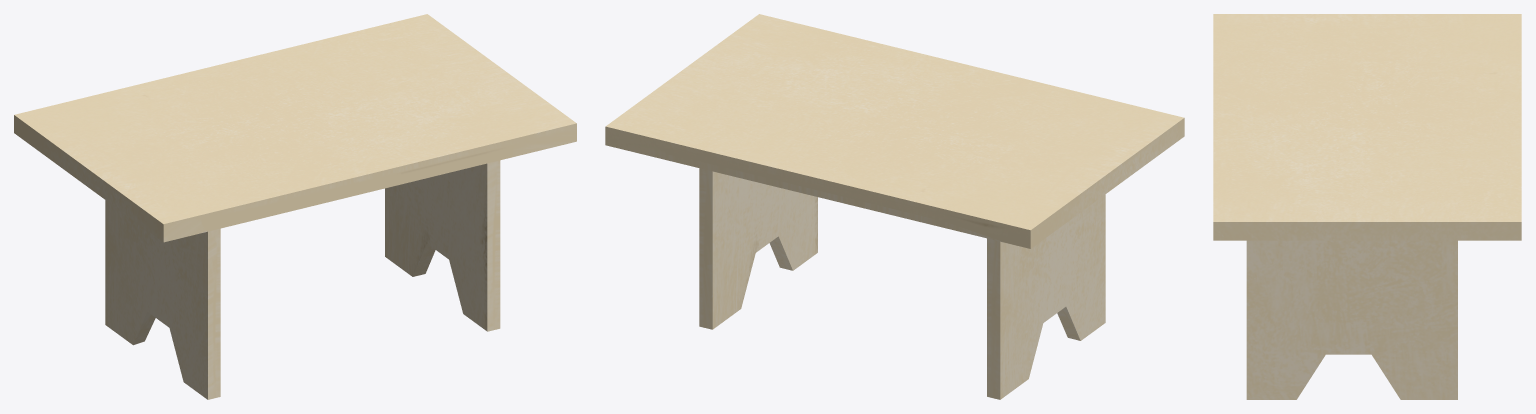
File: Table.fbx
3 renders of one model, left to right at view 1: azimuth 30°, elevation 25°; view 2: azimuth 150°, elevation 25°; view 3: azimuth 270°, elevation 25°, orthographic. The views are drawn at different scales.
Parts seen in each view (by area): view 1: Table; view 2: Table; view 3: Table.
Part boxes in pixels (box(x1,y1,x2,y2)): Table: box(14, 14, 576, 399); Table: box(605, 14, 1184, 399); Table: box(1213, 14, 1521, 399).
Size of the model in its own units: 1157 by 724 by 541.
Materials: 1 (1 with a texture image).
